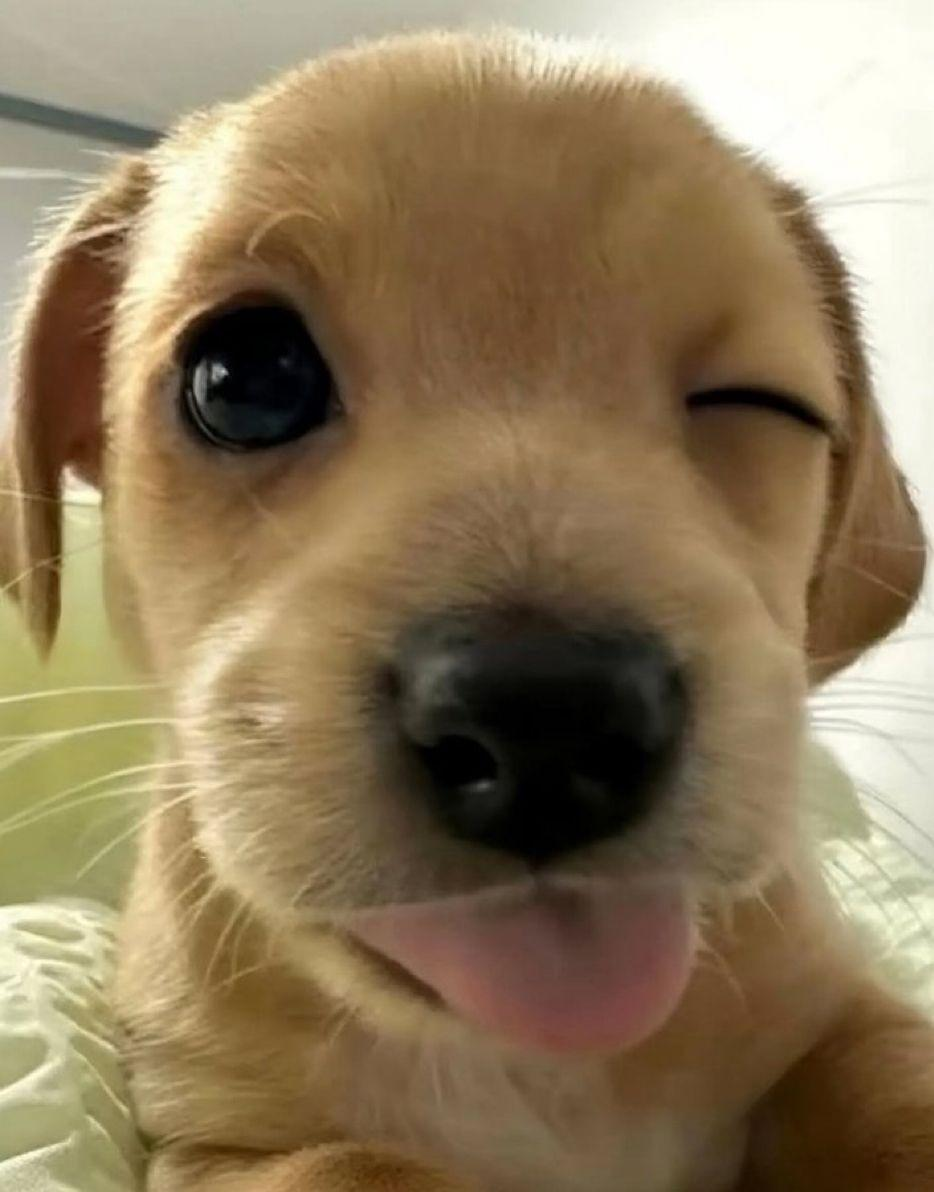puppy-dog: (4, 21, 934, 1192)
